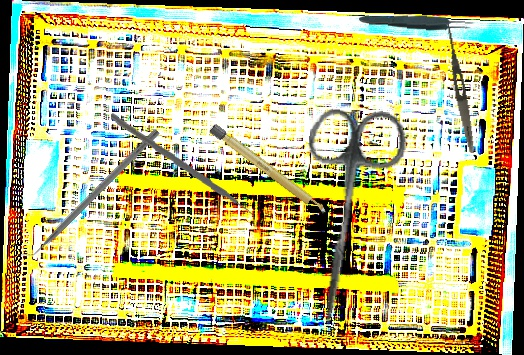Chopper: (16, 121, 160, 266), (105, 113, 261, 231)
Dressing Forceps: (441, 21, 478, 154)
Iris Scissors: (283, 101, 411, 334)
Scalpel Handle: (208, 122, 330, 219)
Tissue Forceps: (358, 11, 476, 34)
